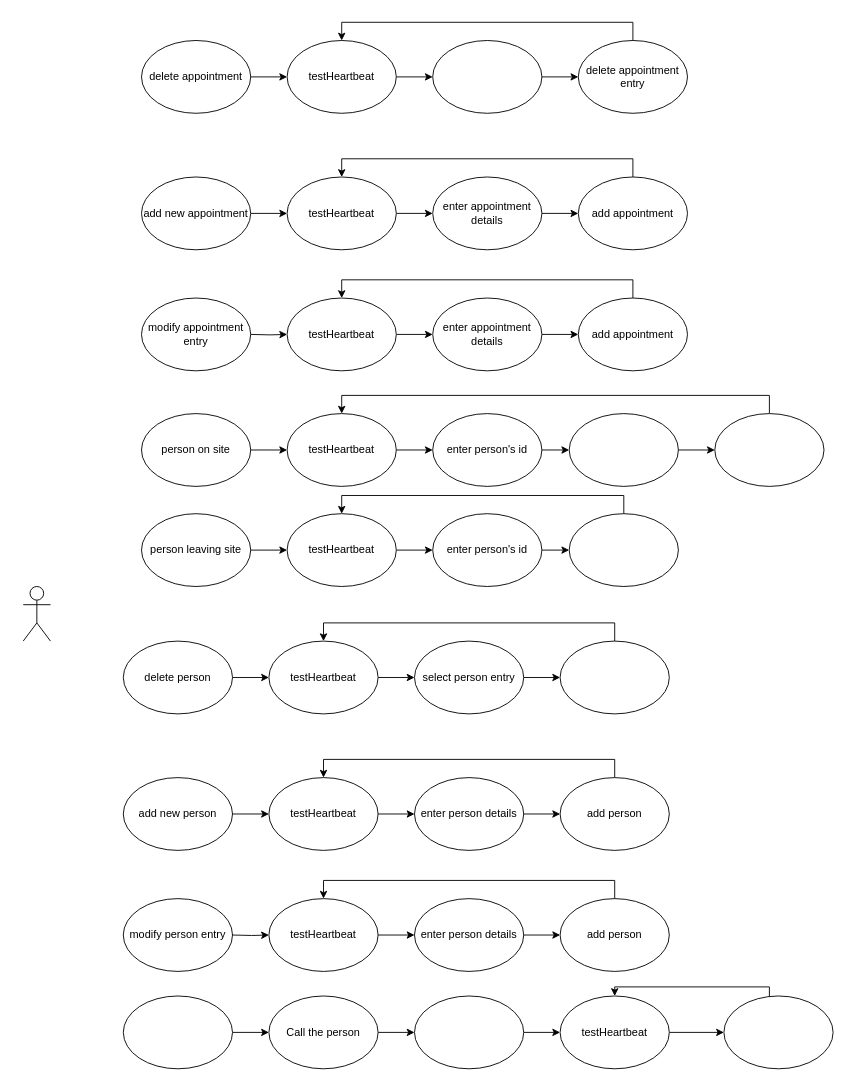
Image size: 849x1085. Some labels were removed from this diagram. Here are the shapes that lost their labels. From the top down, the centre of each, then its label:
pixel 487 76: select appointment entry
pixel 623 449: enter site's id
pixel 769 449: send on site
pixel 623 549: leave site
pixel 36 613: Operator
pixel 614 677: delete person entry
pixel 177 1032: Timer run out for "i'm OK"
pixel 469 1032: he's ok
pixel 778 1032: I'm OK
